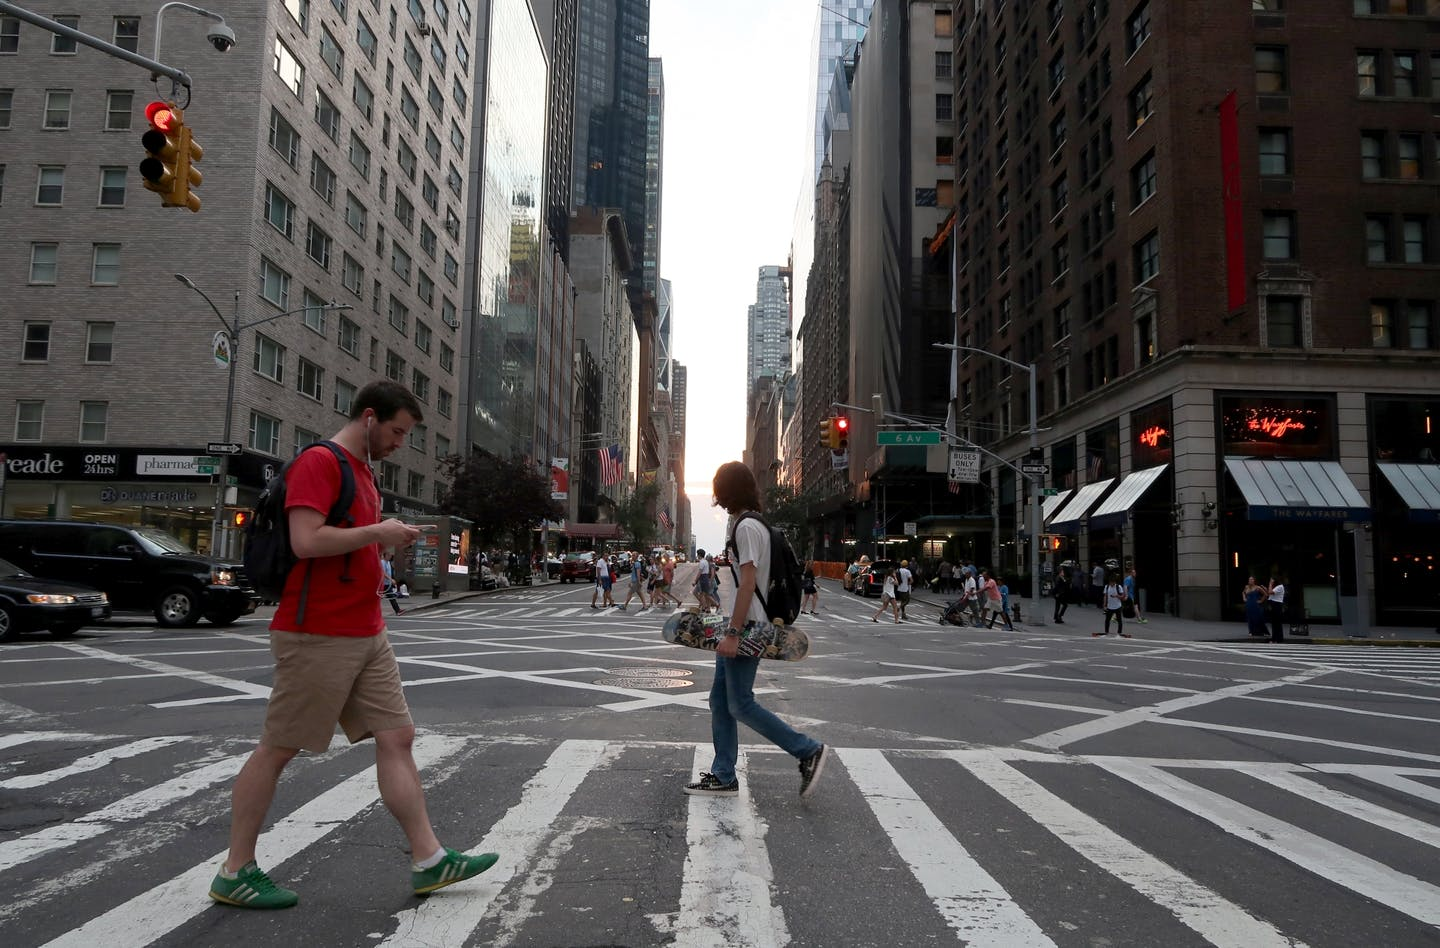person: (170, 366, 539, 903), (643, 452, 852, 806), (951, 567, 1028, 637), (1243, 570, 1293, 643), (1094, 562, 1140, 640), (877, 555, 917, 636), (633, 550, 684, 614), (586, 542, 621, 615), (692, 542, 719, 602)
